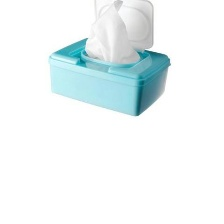plastic_box: (42, 0, 177, 120)
tissue: (82, 0, 144, 68)
